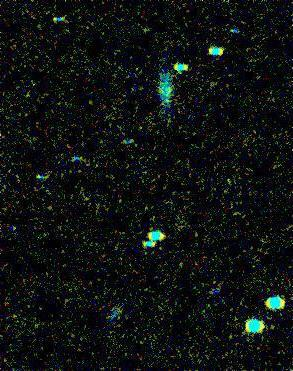star: (154, 86, 184, 116)
